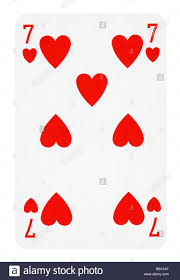seven of hearts: (15, 14, 167, 249)
